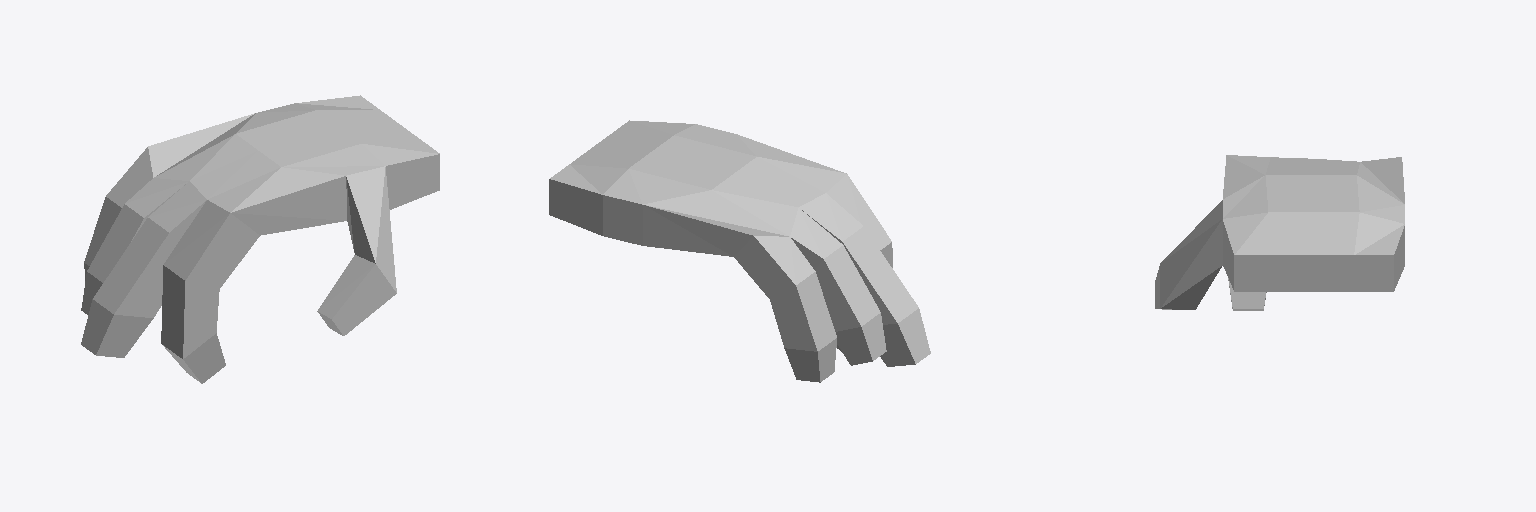
The model's file is vr-hand.obj.
3 views of the same model, side by side, from view 1: azimuth 30°, elevation 25°; view 2: azimuth 150°, elevation 25°; view 3: azimuth 270°, elevation 25° (orthographic).
Visible parts, largest first — view 1: Cube_Cube.001; view 2: Cube_Cube.001; view 3: Cube_Cube.001.
Boxes of the visible parts, x1=… form: Cube_Cube.001: x1=81, y1=95, x2=439, y2=383; Cube_Cube.001: x1=549, y1=120, x2=930, y2=382; Cube_Cube.001: x1=1155, y1=155, x2=1404, y2=310.
Size of the model in its own units: 16.36 by 8.92 by 10.99.